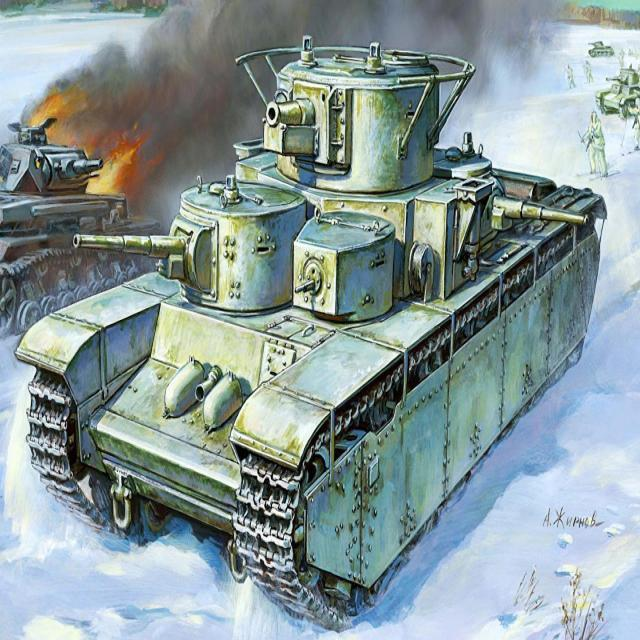Tanks: (38, 49, 568, 574), (7, 110, 145, 317)
